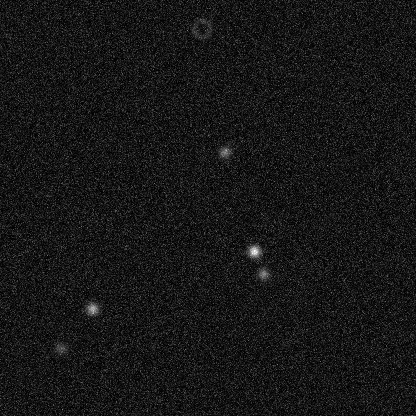Ring: (189, 16, 213, 40)
Spot: (216, 143, 232, 159), (53, 340, 69, 356), (246, 243, 262, 259), (255, 265, 271, 281), (84, 300, 100, 316)
